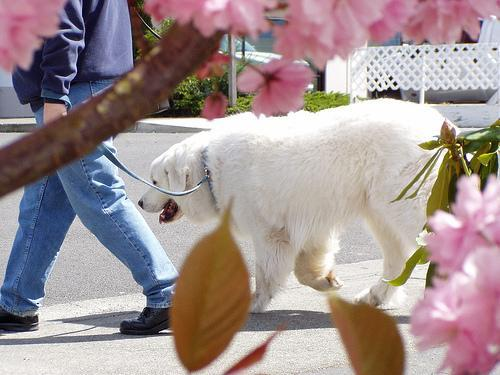Great_Pyrenees: (137, 97, 464, 309)
